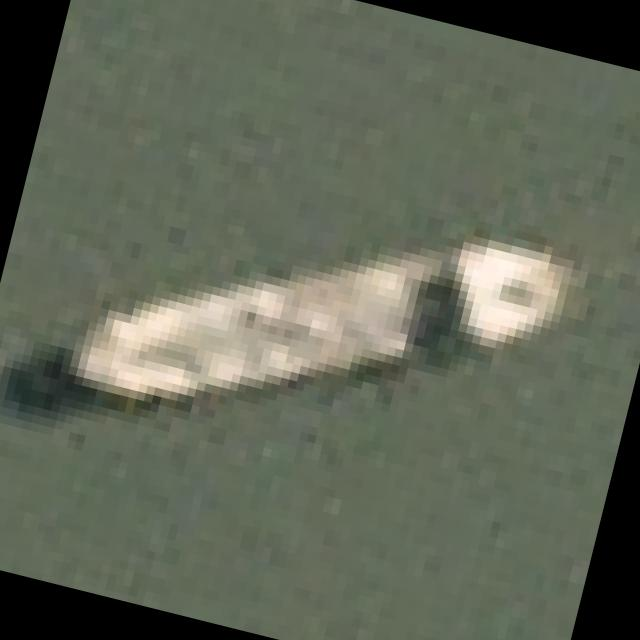ship: (21, 74, 628, 528)
